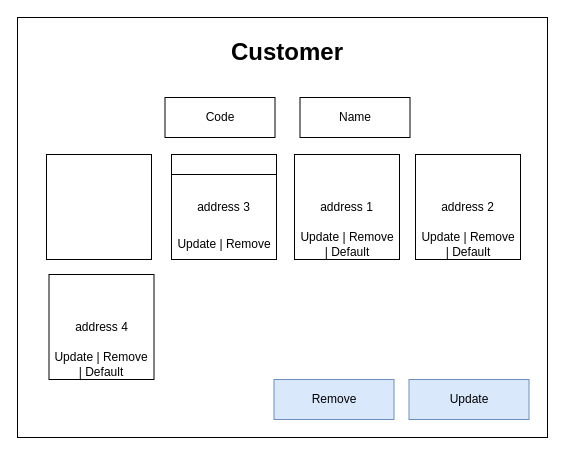
This 565x455 diagram has some shape labels left out. The box of each missing label's shape, as (x1, y1, x2, y2) in pixels:
Add new address: (46, 154, 152, 260)
default: (170, 154, 276, 174)
